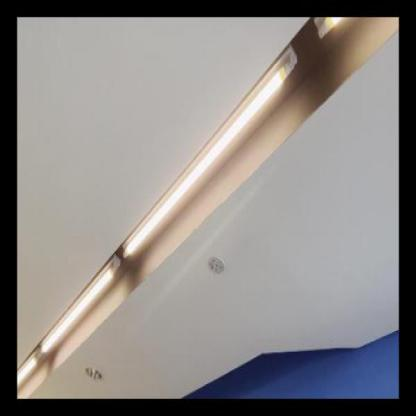light_on: (122, 37, 302, 265), (40, 243, 122, 370), (308, 17, 352, 51), (16, 345, 36, 391)
